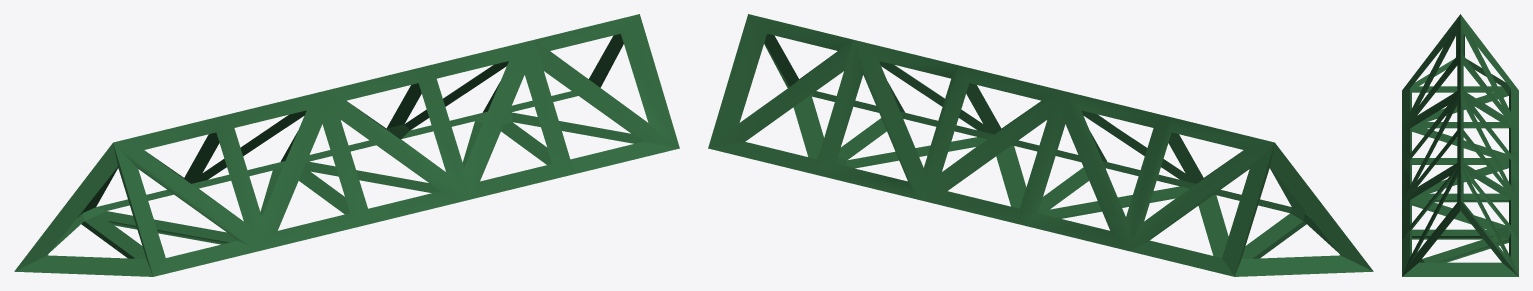
File: pidstavkagreen.fbx
3 renders of one model, left to right at view 1: azimuth 30°, elevation 25°; view 2: azimuth 150°, elevation 25°; view 3: azimuth 270°, elevation 25°, orthographic. The views are drawn at different scales.
Visible parts, largest first — view 1: pidstavka1; view 2: pidstavka1; view 3: pidstavka1.
Part boxes in pixels (left/top/right/bottom): pidstavka1: left=14, top=14, right=679, bottom=276; pidstavka1: left=708, top=14, right=1373, bottom=276; pidstavka1: left=1402, top=14, right=1518, bottom=276.
Bounding box in the file's own units: 61.45 × 9.86 × 13.66.
Materials: 1 (1 with a texture image).
